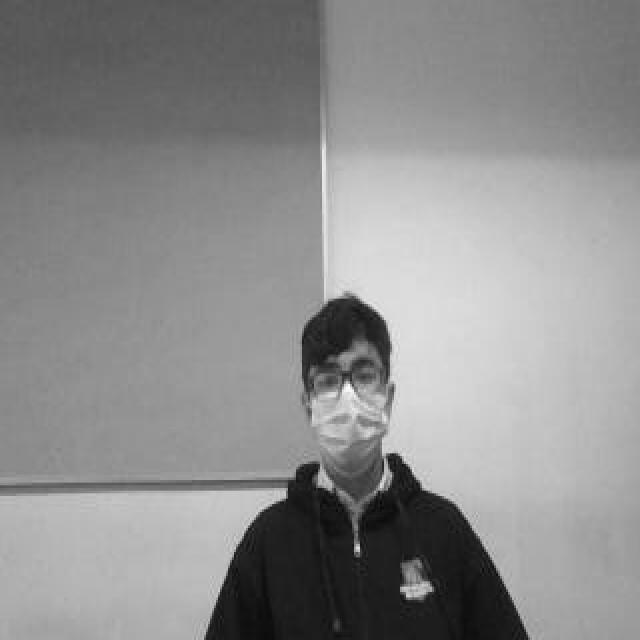Focused: (311, 333, 389, 472)
